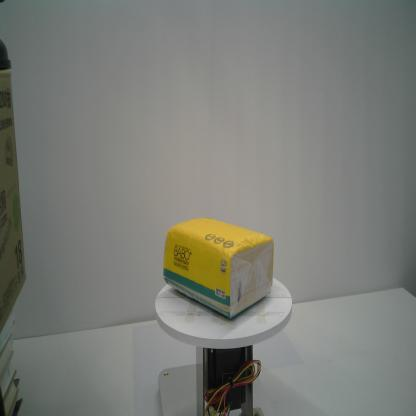Tissue: (164, 218, 274, 320)
